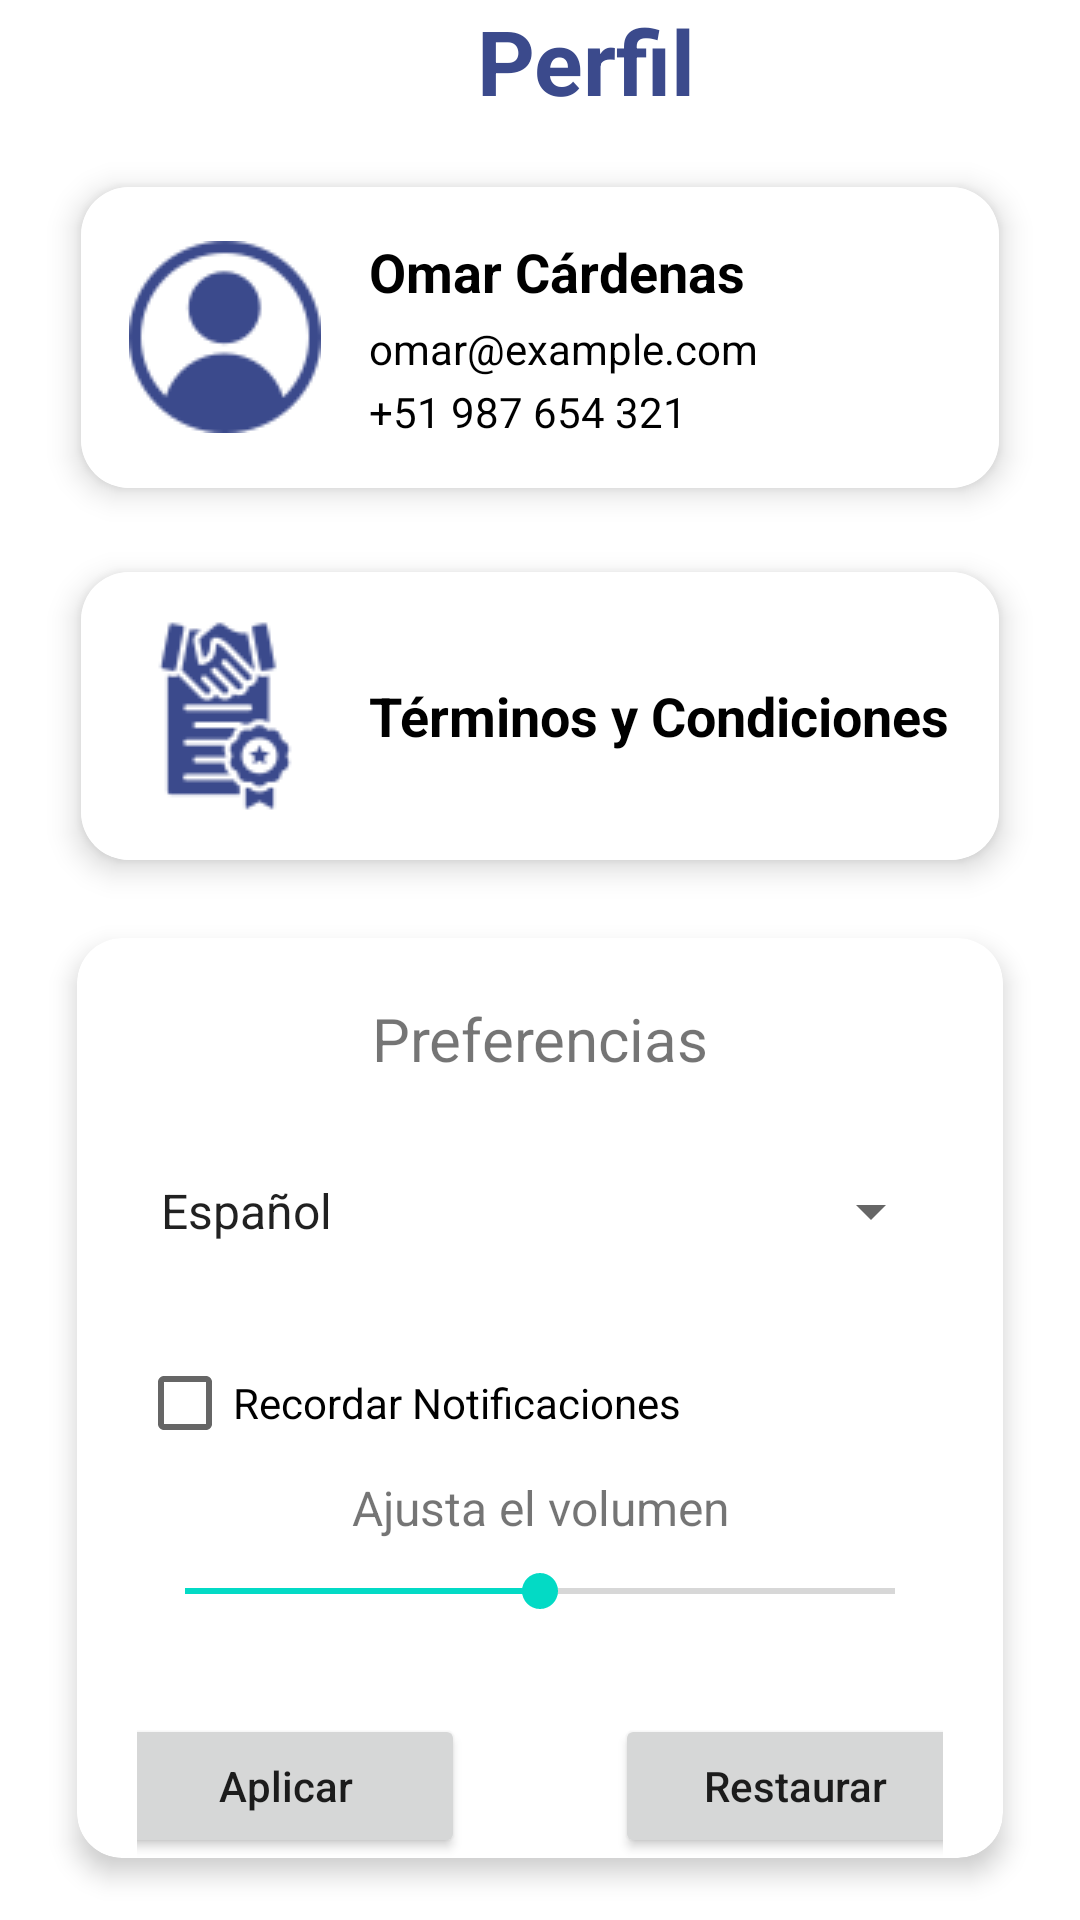

Named icons in this screenshot (1080w x 1920h) and their centers, point (x, y):
terminos: point (225, 716)
user: point (225, 337)
